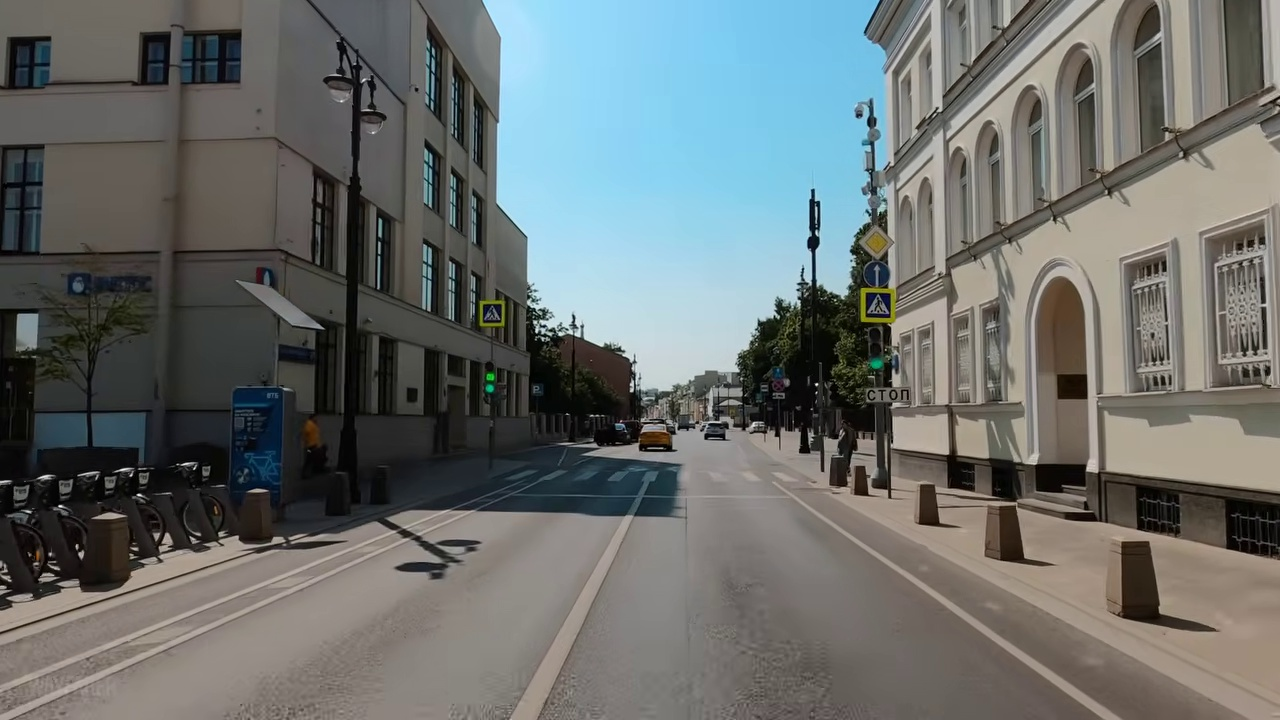apagada: (319, 66, 385, 131)
